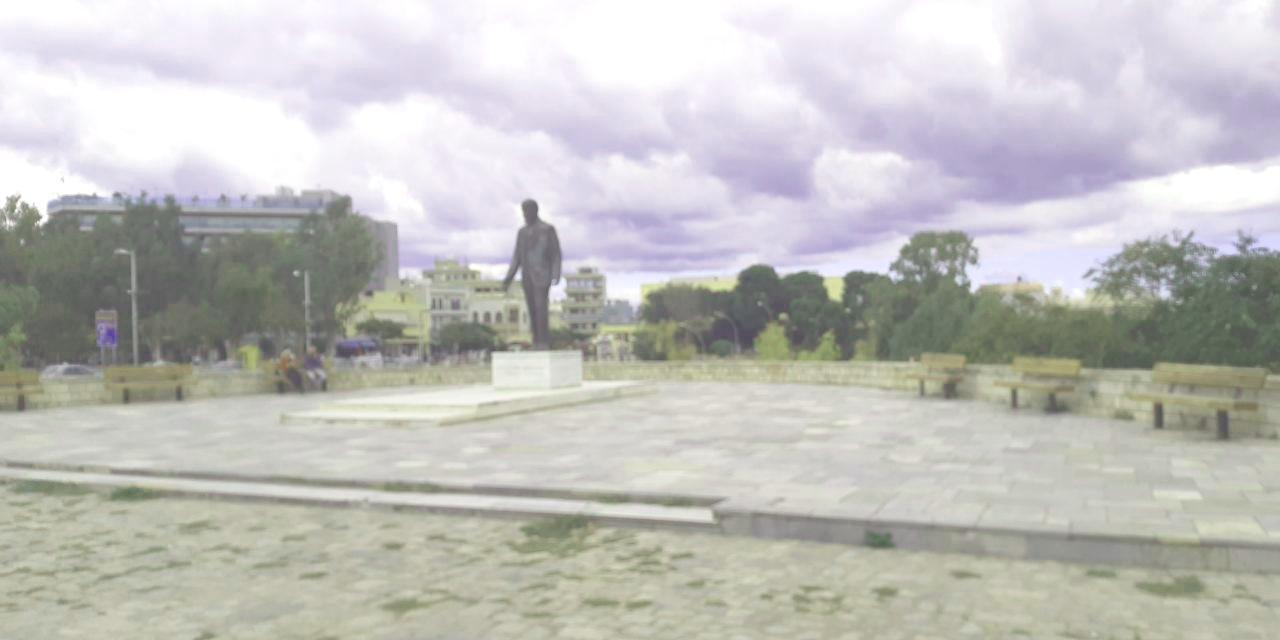Venizelos: (496, 199, 567, 349)
